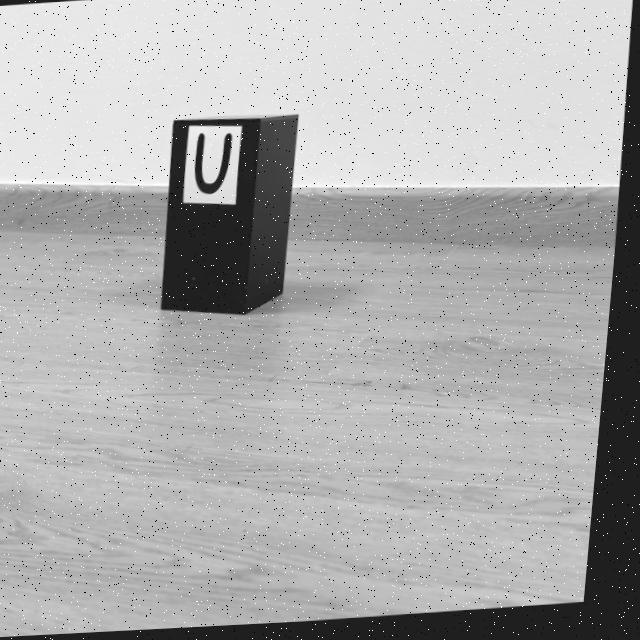U: (197, 135, 234, 196)
